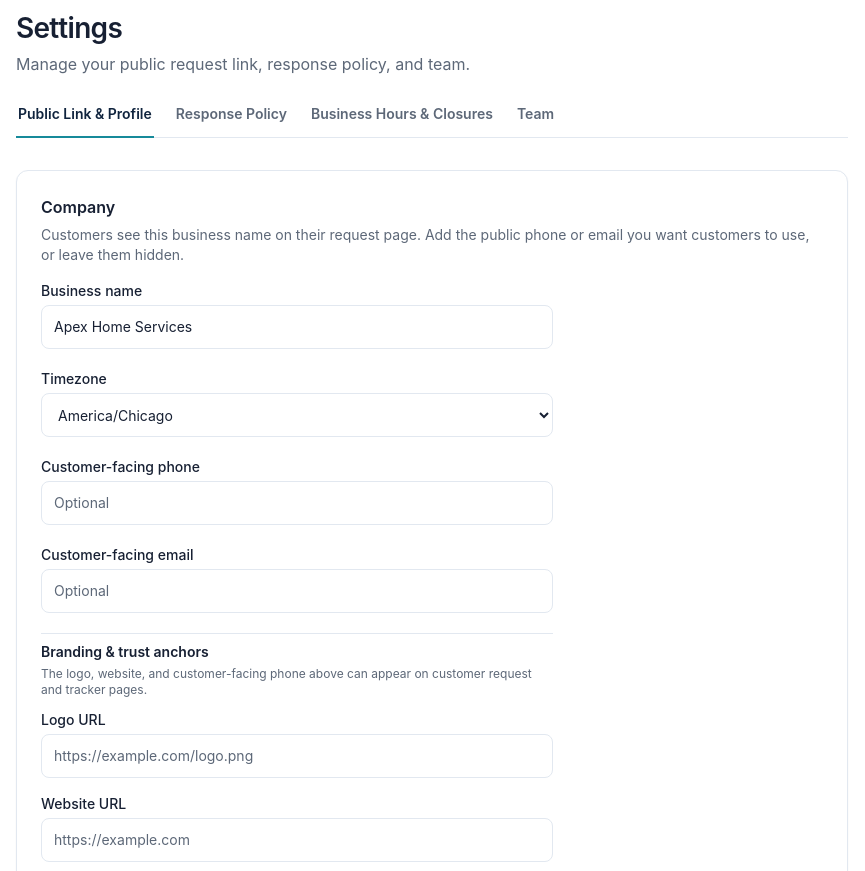
Test: Settings — V2 shell › switches tabs to Response Policy and Team, preserving their headings and controls
Click the tab "Response Policy". click: (231, 115)
box: [174,92,289,138]
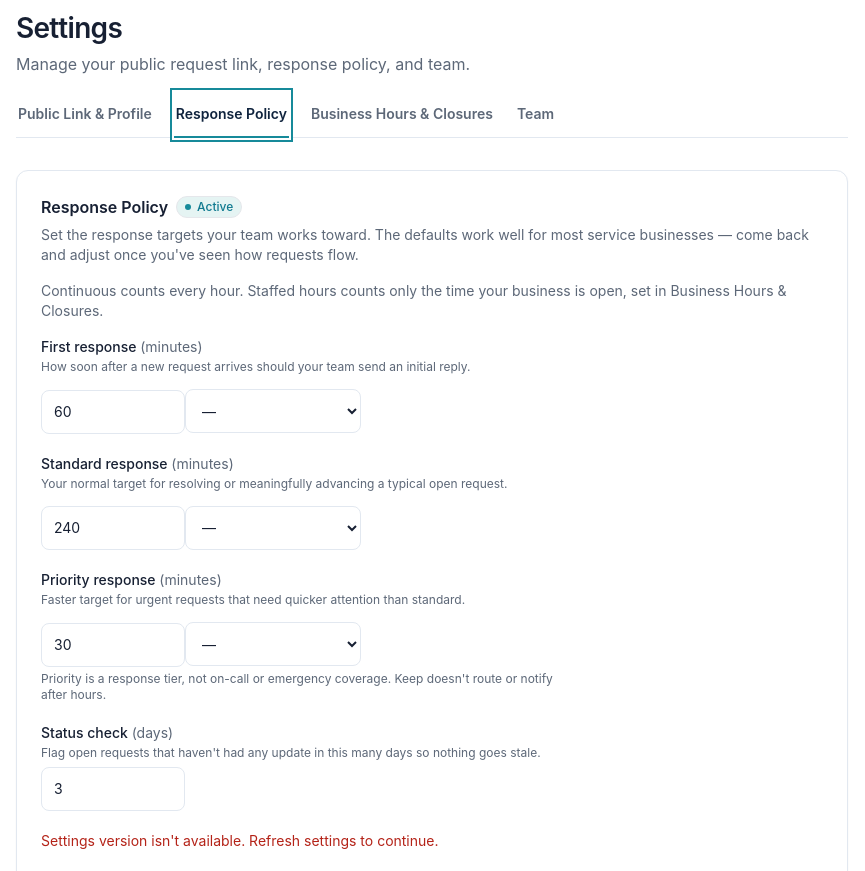
Expected: the heading "Response Policy" is shown, [41,195,168,219]
Click the tab "Team". click: (536, 115)
box: [515,92,556,138]
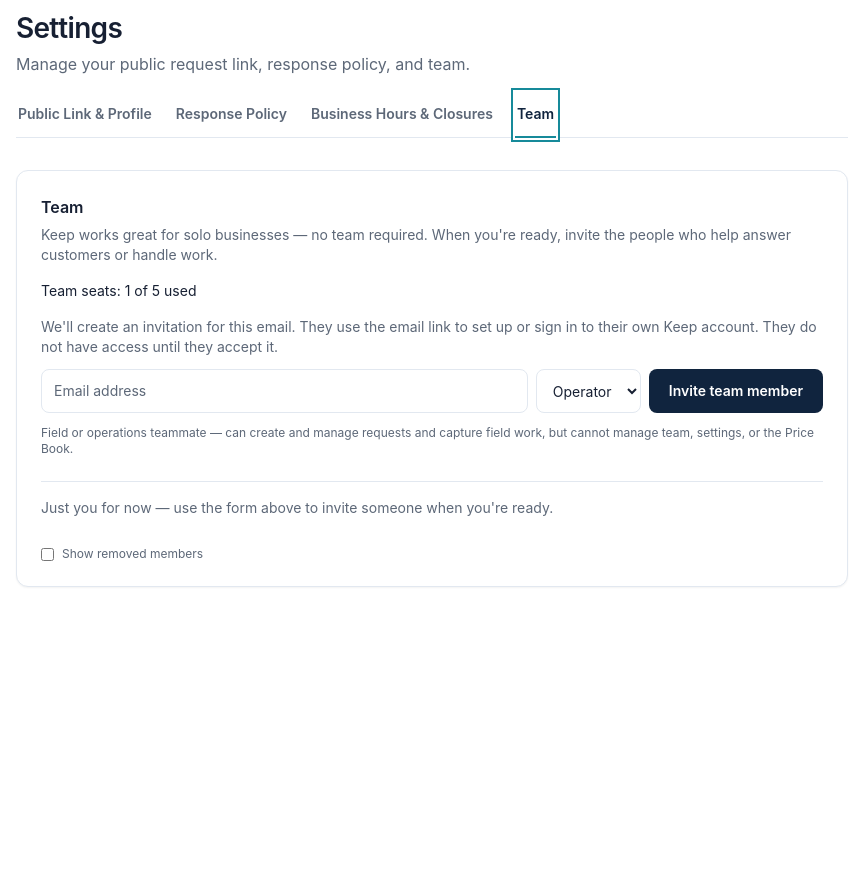
Expected: the heading "Team" is shown, [41,195,84,219]
Expected: the button "Invite team member" is shown, [649,369,823,413]
